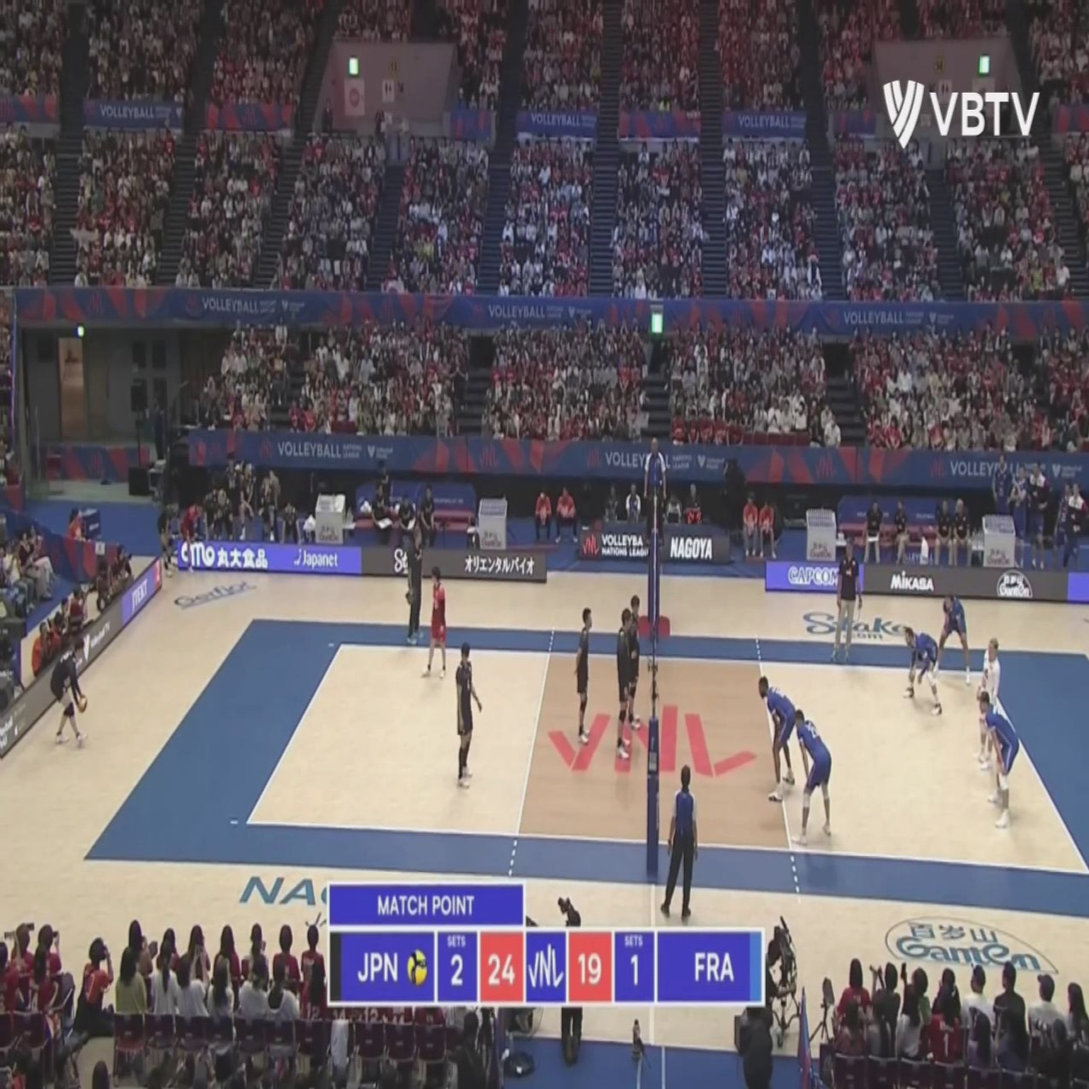ball: (77, 694, 87, 712)
